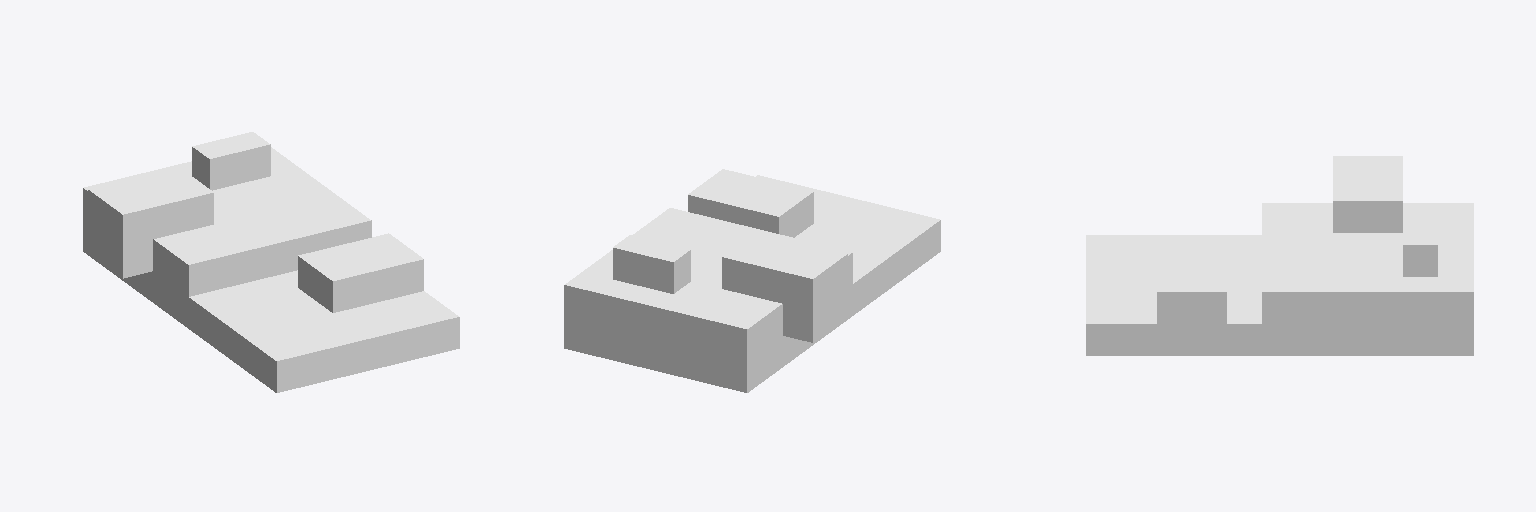
The model's file is SmallBuilding02-5.obj.
3 views of the same model, side by side, from view 1: azimuth 30°, elevation 25°; view 2: azimuth 150°, elevation 25°; view 3: azimuth 270°, elevation 25° (orthographic).
Parts seen in each view (by area): view 1: object 1; view 2: object 1; view 3: object 1.
Part boxes in pixels (bbox=[...]): object 1: bbox=[83, 132, 459, 392]; object 1: bbox=[564, 169, 940, 392]; object 1: bbox=[1086, 156, 1473, 355].
Size of the model in its own units: 0.7 by 0.3 by 1.1.